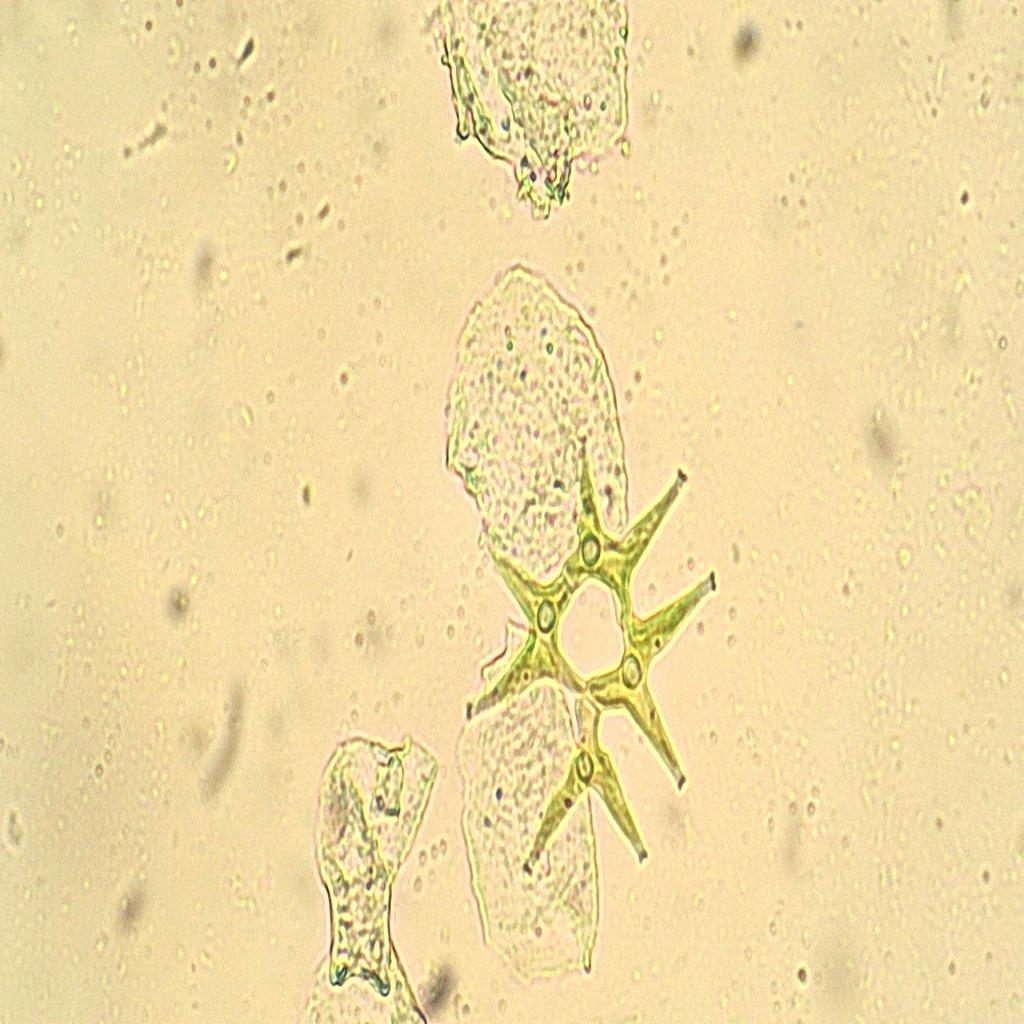Pediastrum_CT: (457, 421, 728, 885)
